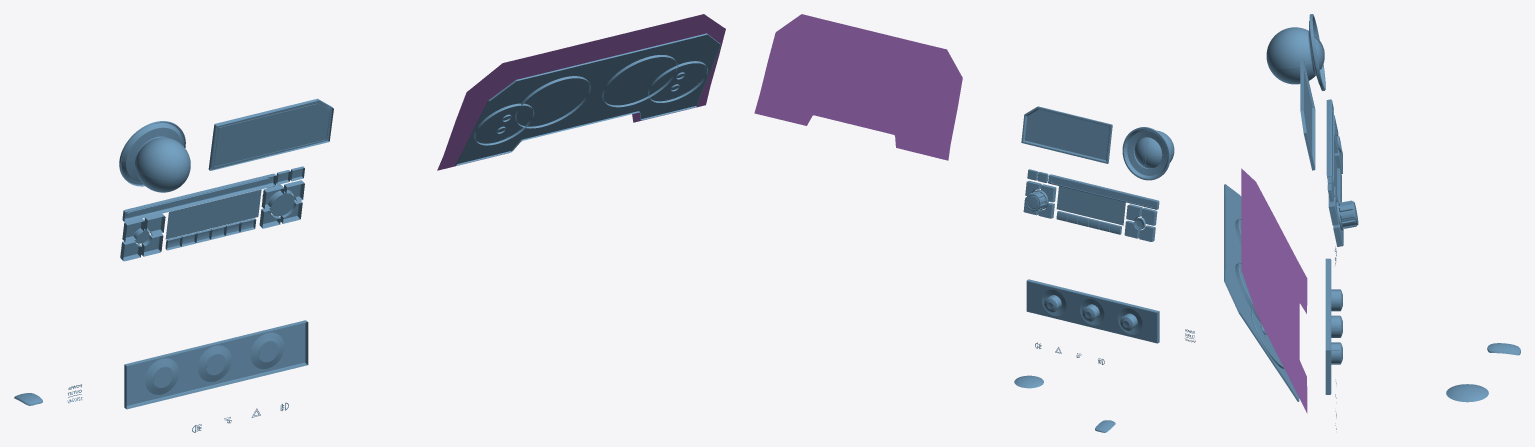
File: FHXY_02BX_A26_ZhongKong_MianBan_MD.fbx
3 views of the same model, side by side, from view 1: azimuth 30°, elevation 25°; view 2: azimuth 150°, elevation 25°; view 3: azimuth 270°, elevation 25° (orthographic). The views are drawn at different scales.
Parts seen in each view (by area): view 1: FHXY_02BX_A26_ZhongKong_MianBan_MD, FHXY_02BX_A26_ZhongKong_MianBan_MD_03_Glass; view 2: FHXY_02BX_A26_ZhongKong_MianBan_MD_03_Glass, FHXY_02BX_A26_ZhongKong_MianBan_MD; view 3: FHXY_02BX_A26_ZhongKong_MianBan_MD, FHXY_02BX_A26_ZhongKong_MianBan_MD_03_Glass.
Boxes of the visible parts, x1,y1,x2,y2 form: FHXY_02BX_A26_ZhongKong_MianBan_MD: [14, 33, 720, 432]; FHXY_02BX_A26_ZhongKong_MianBan_MD_03_Glass: [437, 14, 725, 170]; FHXY_02BX_A26_ZhongKong_MianBan_MD_03_Glass: [754, 14, 962, 160]; FHXY_02BX_A26_ZhongKong_MianBan_MD: [1014, 106, 1195, 432]; FHXY_02BX_A26_ZhongKong_MianBan_MD: [1224, 14, 1520, 429]; FHXY_02BX_A26_ZhongKong_MianBan_MD_03_Glass: [1241, 168, 1307, 413].
Bounding box in the file's own units: 75.57 × 40.07 × 30.06.
